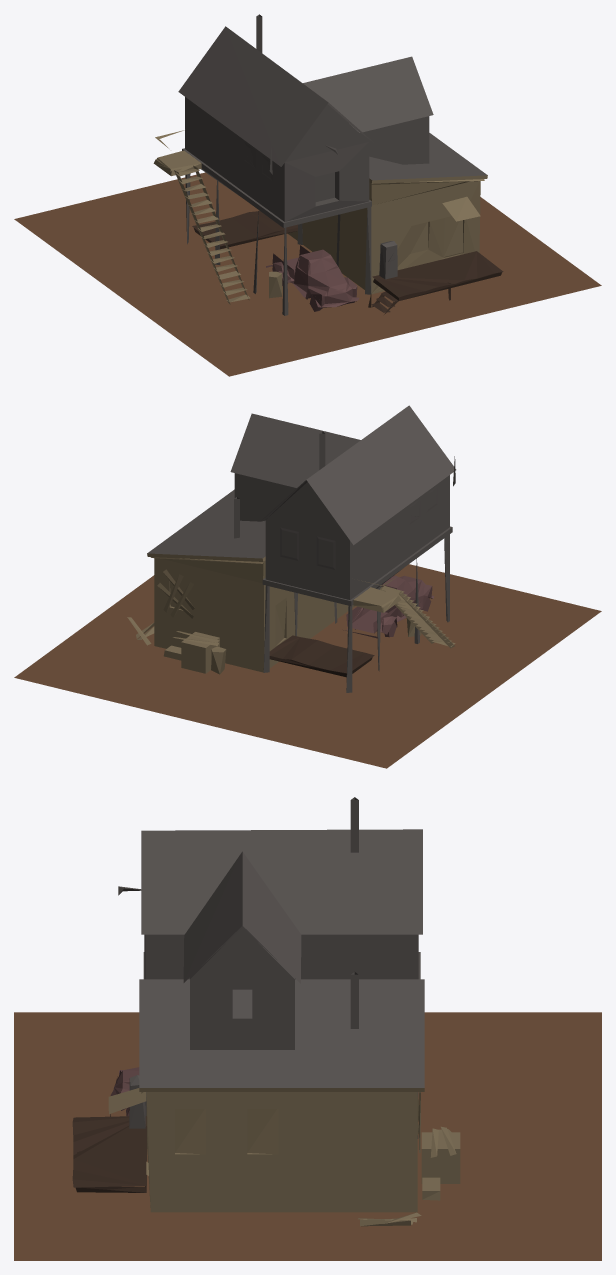
Rendered from barn.lod2.glb.
3 renders of one model, top to bottom at view 1: azimuth 30°, elevation 25°; view 2: azimuth 150°, elevation 25°; view 3: azimuth 270°, elevation 25°, orthographic. The views are drawn at different scales.
Visible parts, largest first — view 1: polySurface3_barn_0; view 2: polySurface3_barn_0; view 3: polySurface3_barn_0.
Boxes of the visible parts, x1,y1,x2,y2 form: polySurface3_barn_0: [14, 14, 601, 376]; polySurface3_barn_0: [14, 405, 601, 768]; polySurface3_barn_0: [14, 797, 601, 1260].
Bounding box in the file's own units: 18.83 × 11.19 × 18.83.
